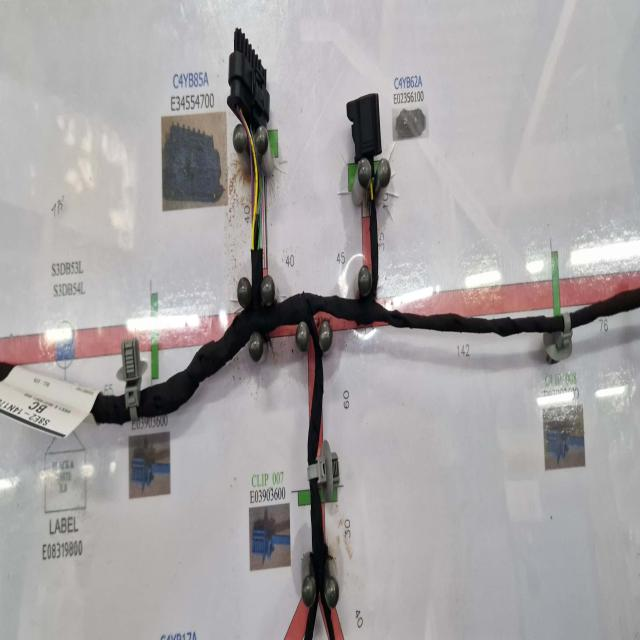Clip: (116, 339, 141, 421), (308, 441, 340, 503), (544, 312, 572, 361)
Connector: (228, 27, 270, 129), (346, 93, 381, 164)
Gape: (247, 134, 270, 248), (363, 160, 378, 208)
Info: (0, 364, 99, 438)
MHEV_N11_Cable: (139, 290, 640, 640), (92, 394, 128, 424)
